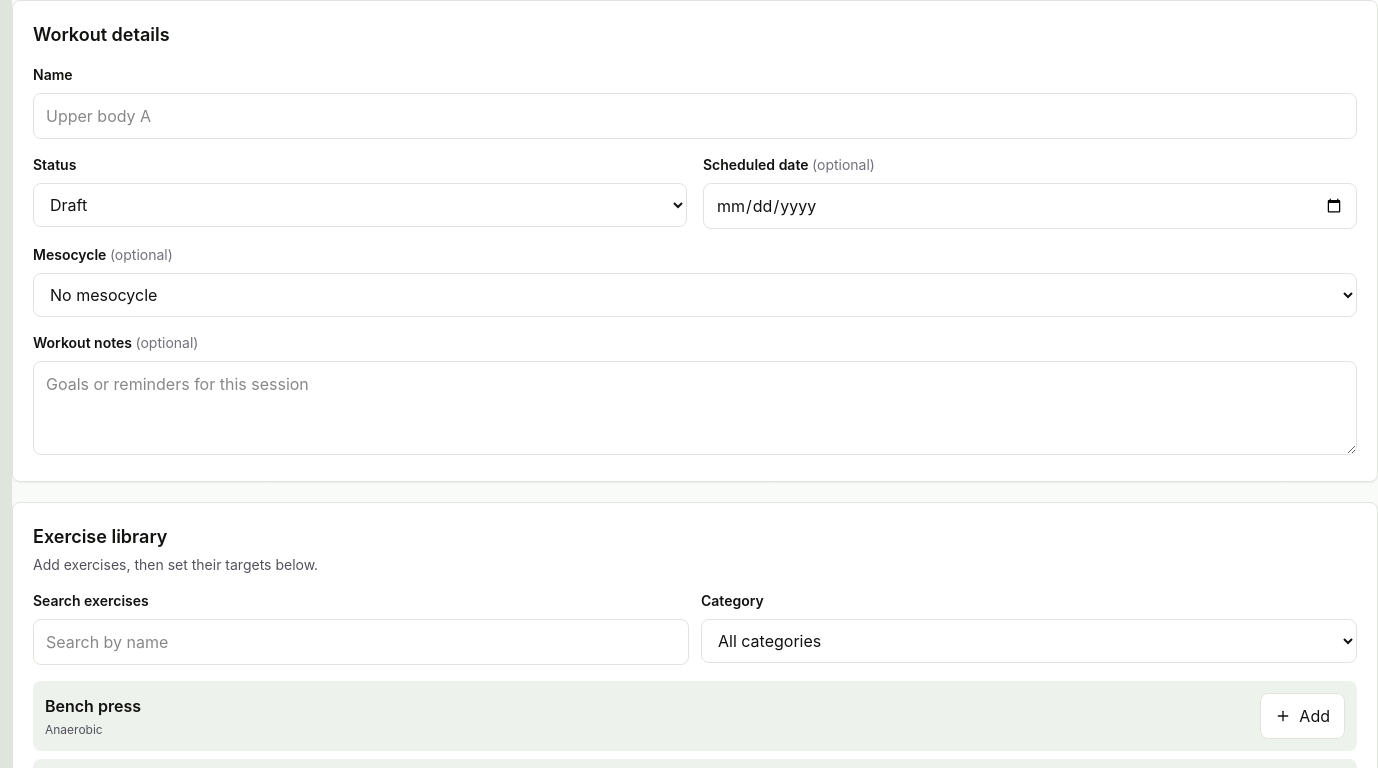
workout builder › filters the exercise library and prevents duplicate additions
The width and height of the screenshot is (1378, 768).
Select "Aerobic" in the dropdown labelled "Category" at (1029, 641), box [701, 619, 1357, 663]
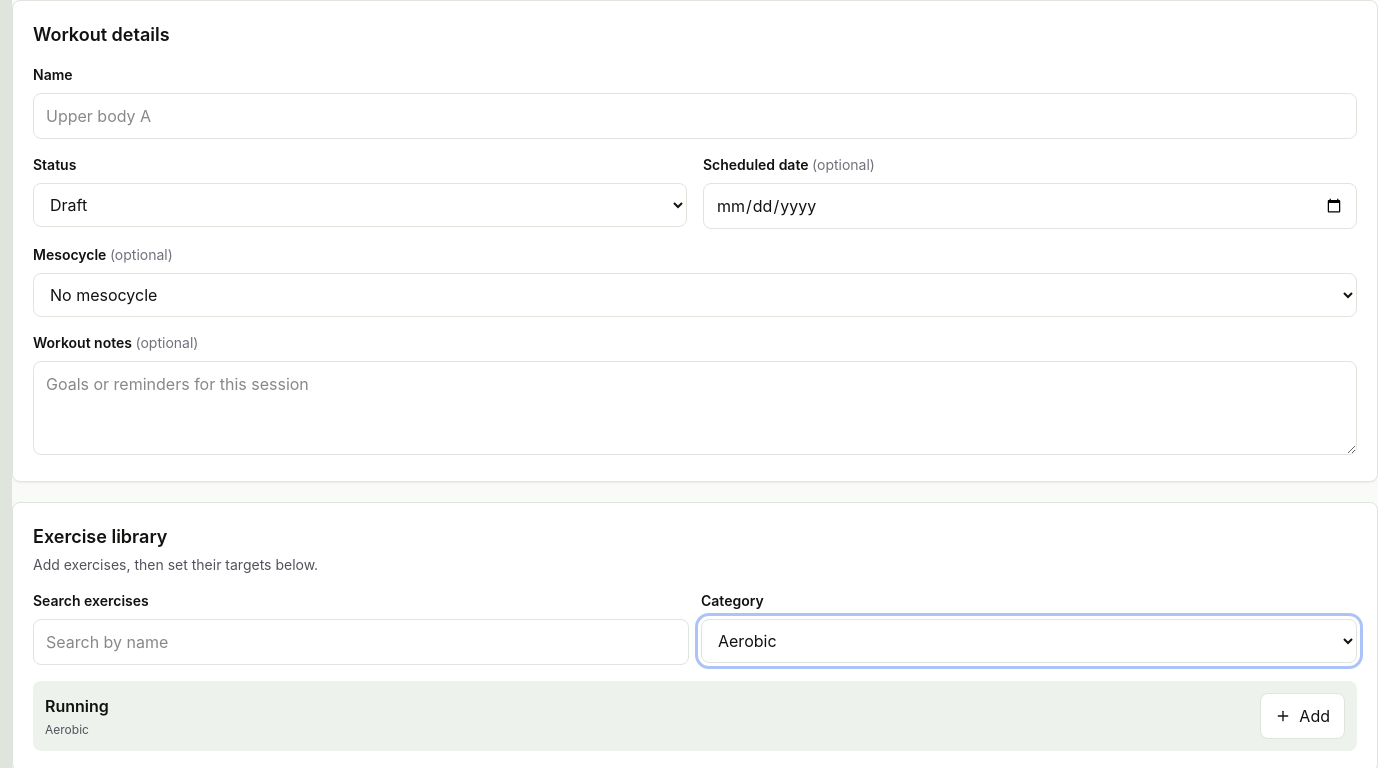
Expected: the text "Bench press" is gone
Click the button with aria-label "Add Running".
click(1303, 716)  # box [1260, 693, 1345, 739]
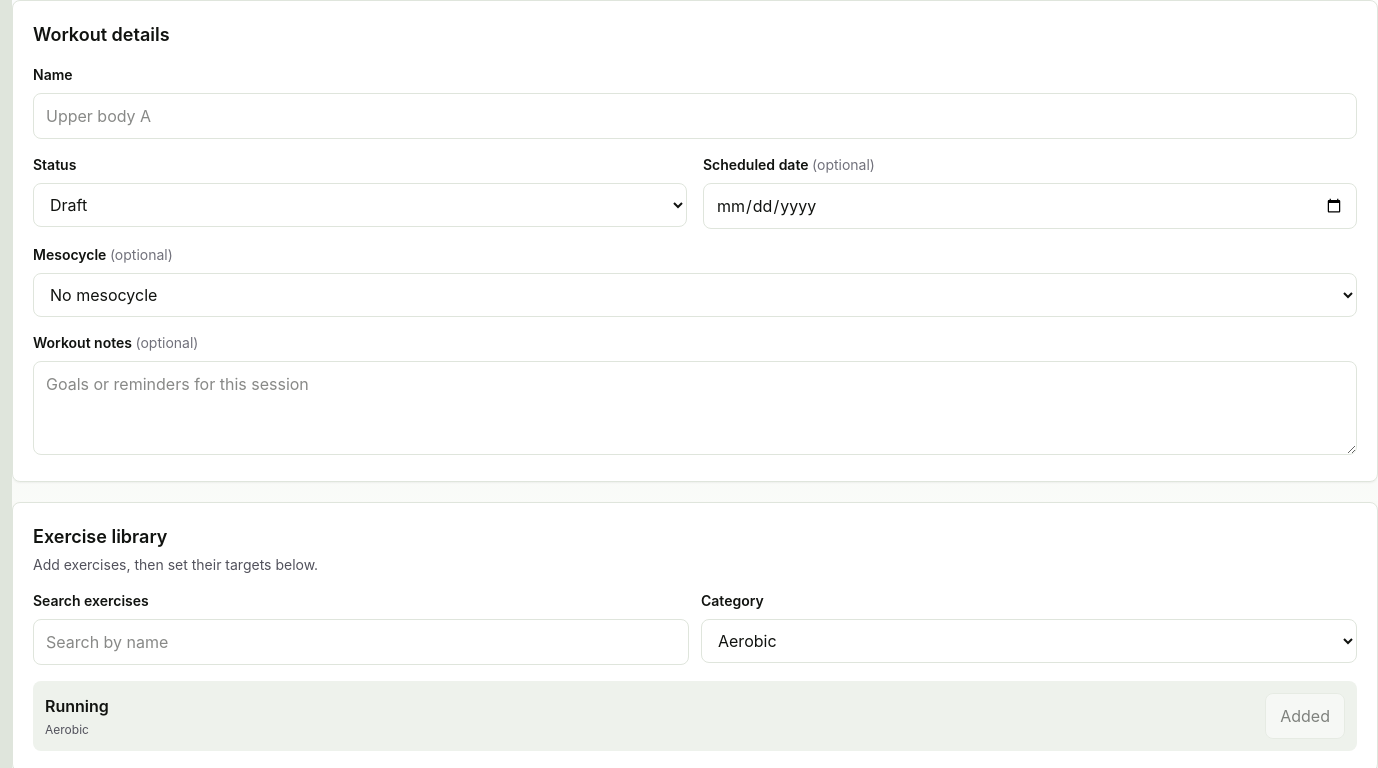
Expected: the button with aria-label "Added Running" is disabled, [1265, 693, 1345, 739]
Type "missing" into the search field labelled "Search exercises".
click(361, 642); type("missing")  # box [33, 619, 689, 665]
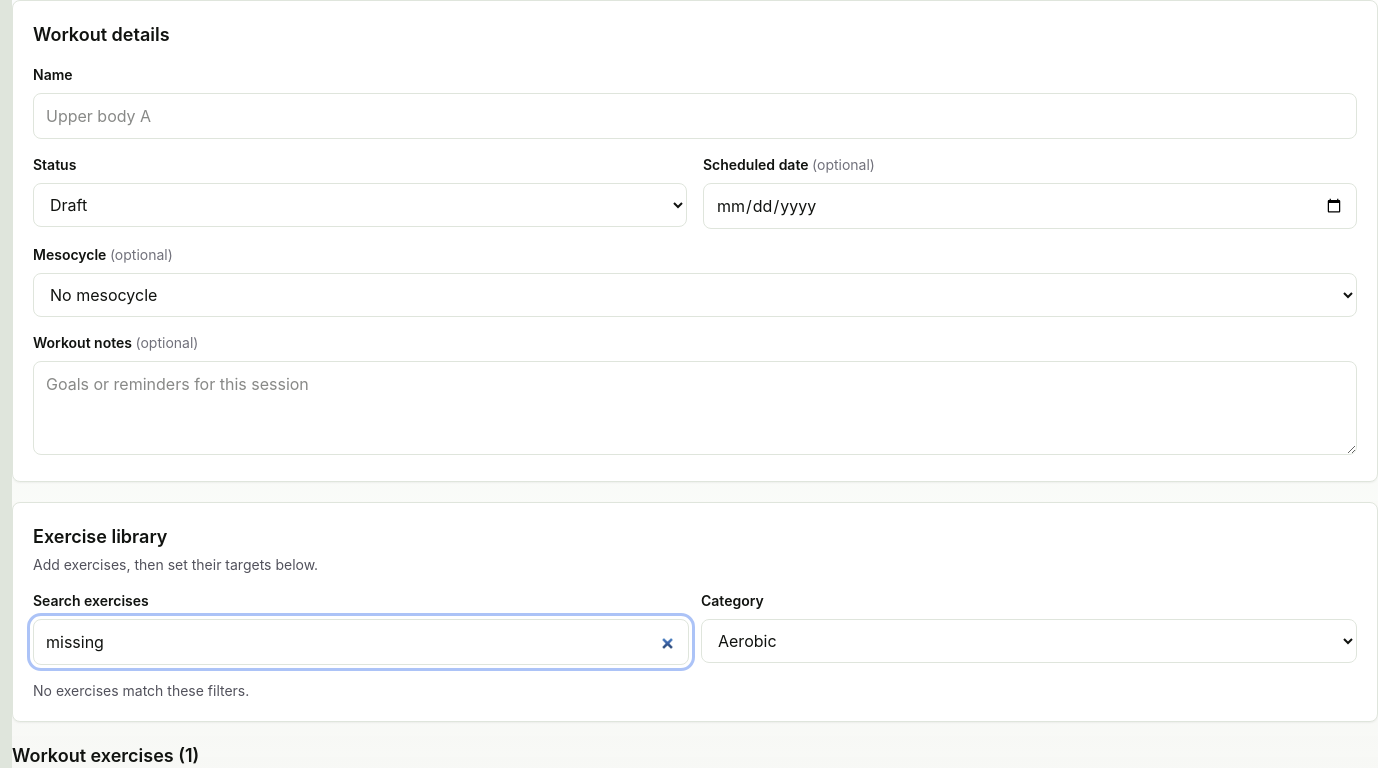
Expected: the text "No exercises match these filters." is shown, [33, 682, 249, 699]
